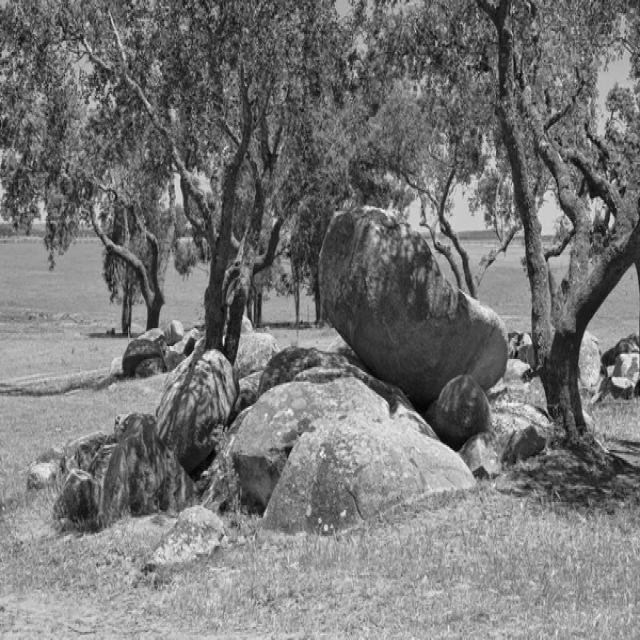Stone: (319, 206, 509, 407), (234, 373, 464, 527), (156, 349, 238, 474), (101, 408, 165, 526), (461, 403, 552, 477), (19, 432, 115, 489), (141, 507, 224, 571), (426, 374, 492, 449), (54, 470, 100, 520), (612, 346, 640, 399), (580, 331, 603, 391)
Tree: (1, 2, 177, 332), (511, 0, 640, 443), (358, 0, 520, 298)
